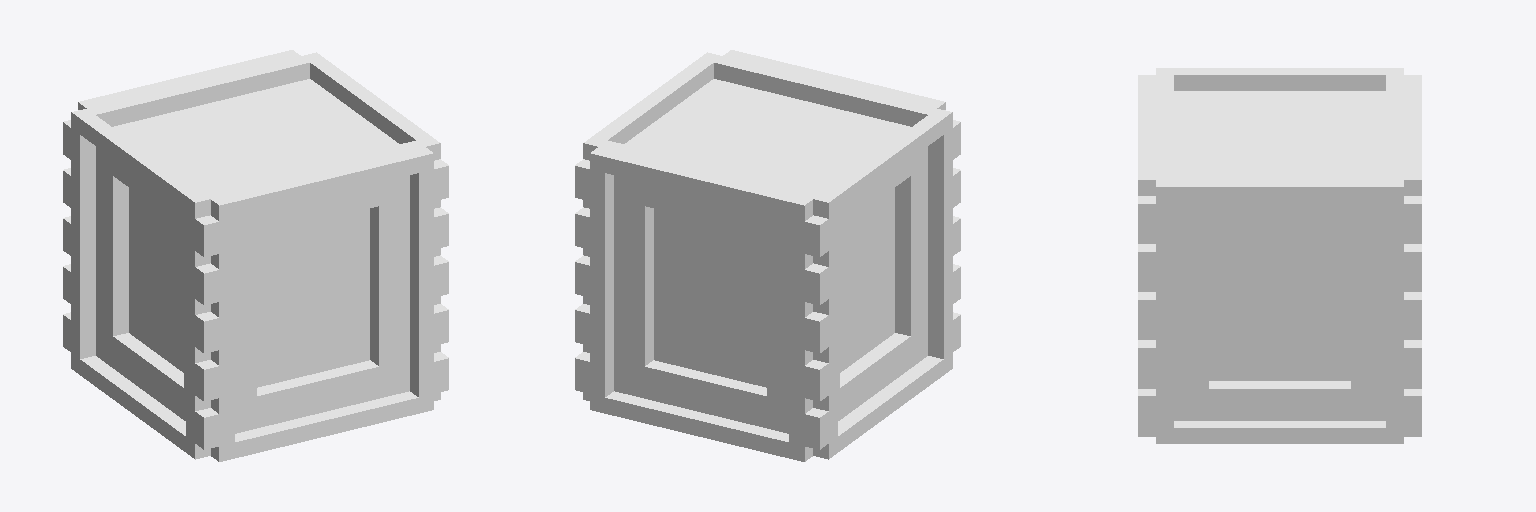
File: cubo.obj
The picture shows the model from 3 angles: view 1: azimuth 30°, elevation 25°; view 2: azimuth 150°, elevation 25°; view 3: azimuth 270°, elevation 25°; orthographic projection.
Parts seen in each view (by area): view 1: object 1; view 2: object 1; view 3: object 1.
Boxes of the visible parts, x1=… form: object 1: x1=63, y1=50, x2=448, y2=461; object 1: x1=575, y1=50, x2=960, y2=461; object 1: x1=1138, y1=68, x2=1421, y2=443.
Bounding box in the file's own units: 1.6 × 1.6 × 1.6.